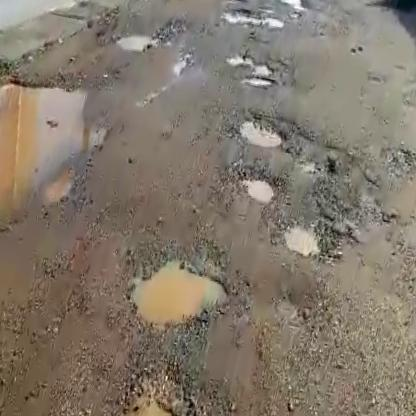pothole: (124, 239, 241, 340), (92, 366, 214, 416), (274, 215, 340, 262), (233, 108, 296, 155), (224, 50, 282, 94), (229, 163, 285, 205), (224, 5, 285, 37), (113, 29, 160, 59), (264, 0, 308, 13)
